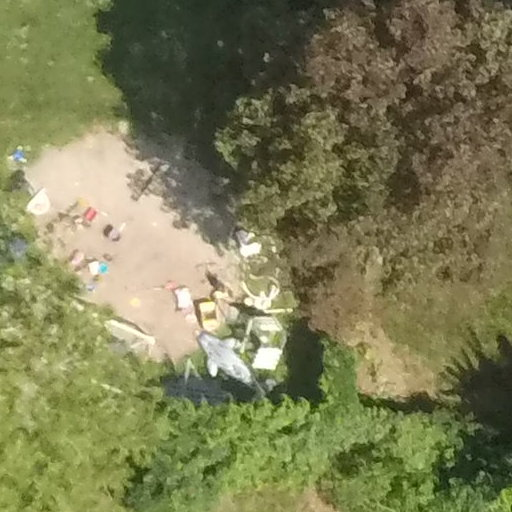container: (196, 297, 224, 329), (105, 224, 125, 244), (83, 204, 99, 227), (97, 264, 112, 277)
toy: (196, 328, 256, 393)
